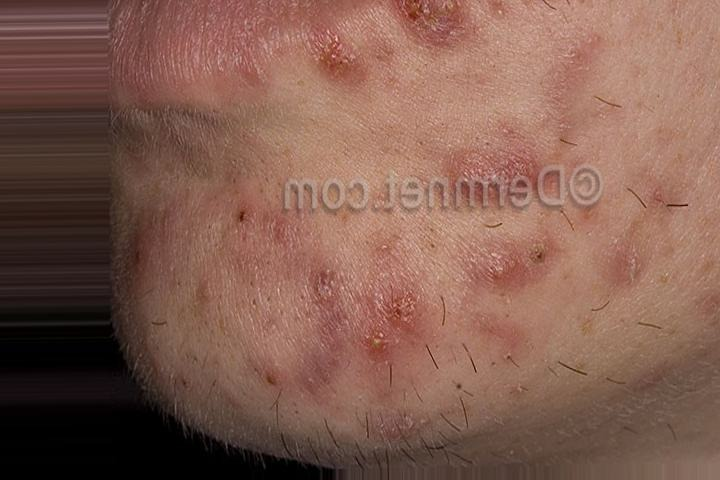Acne: (167, 2, 653, 353)
